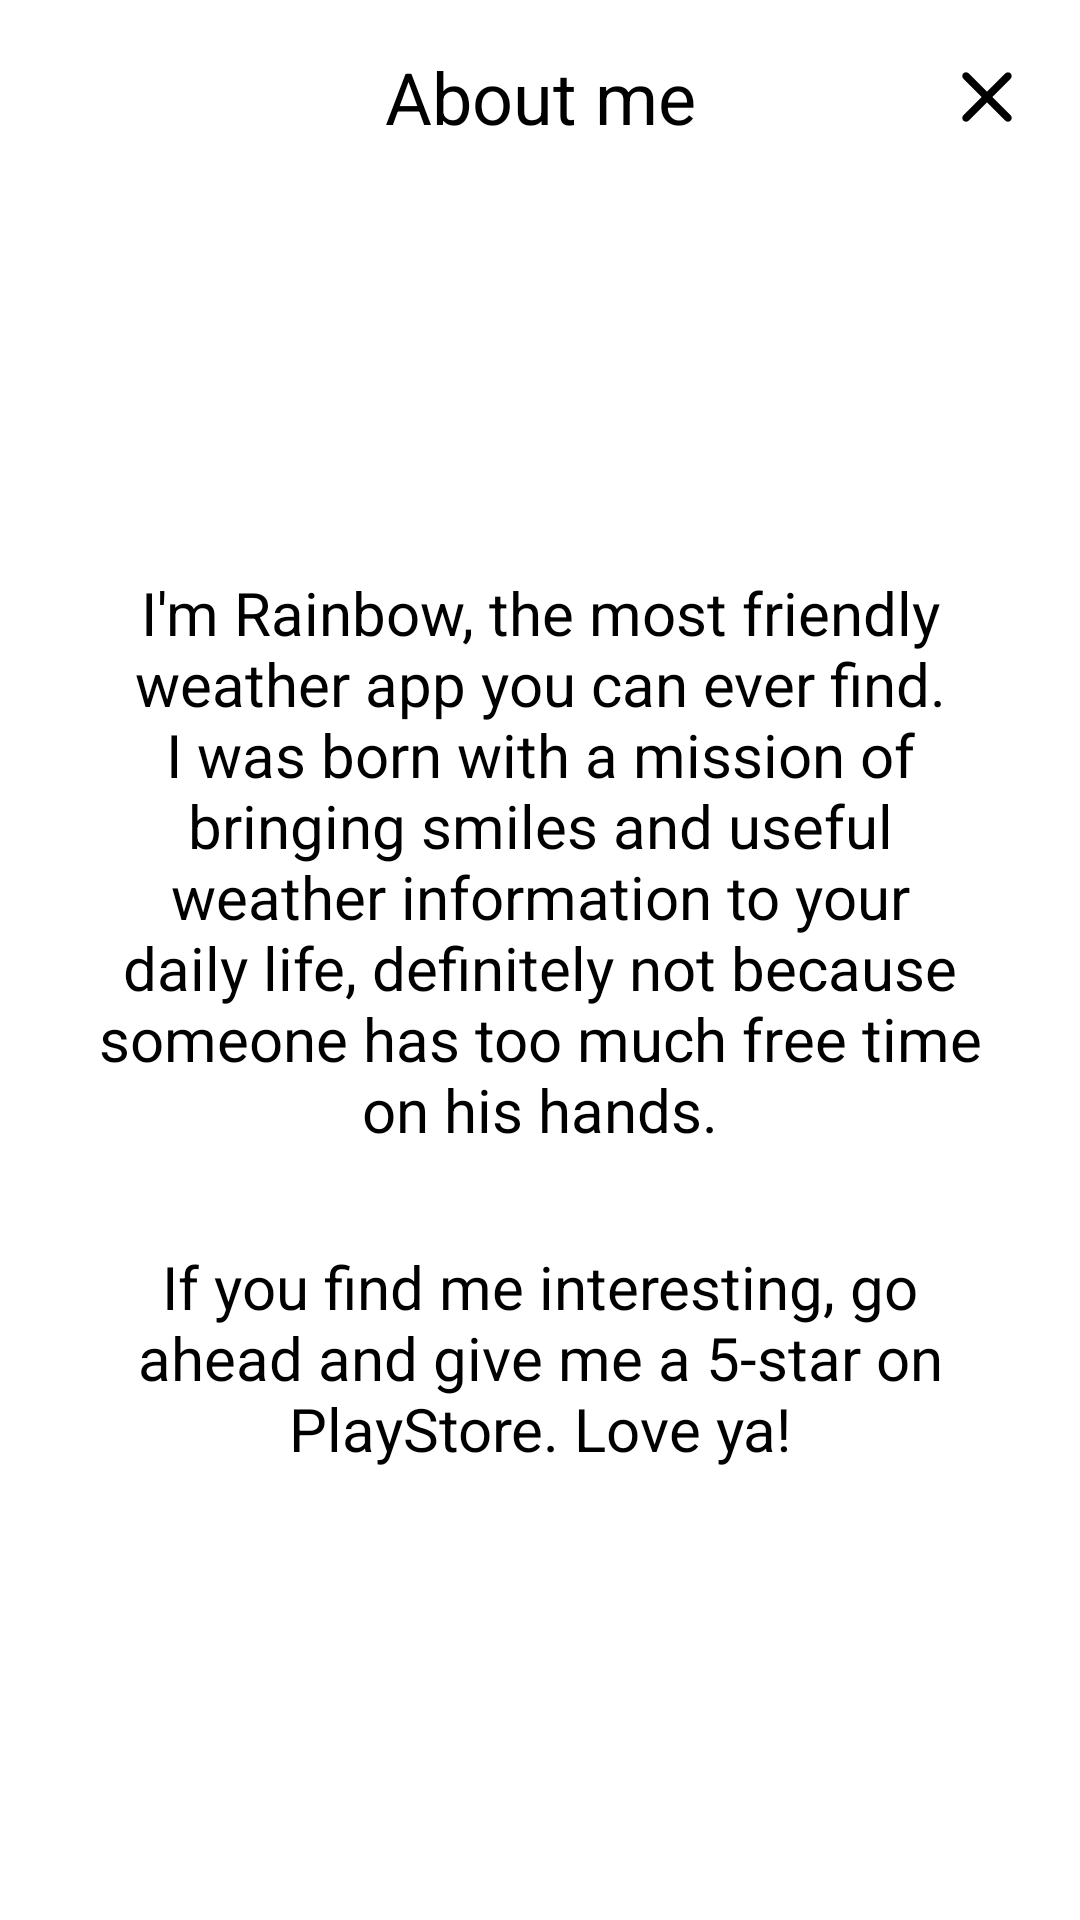

Point at icon controls on the screen. Image size 1080x1920, points as (x,y).
close: (987,97)
